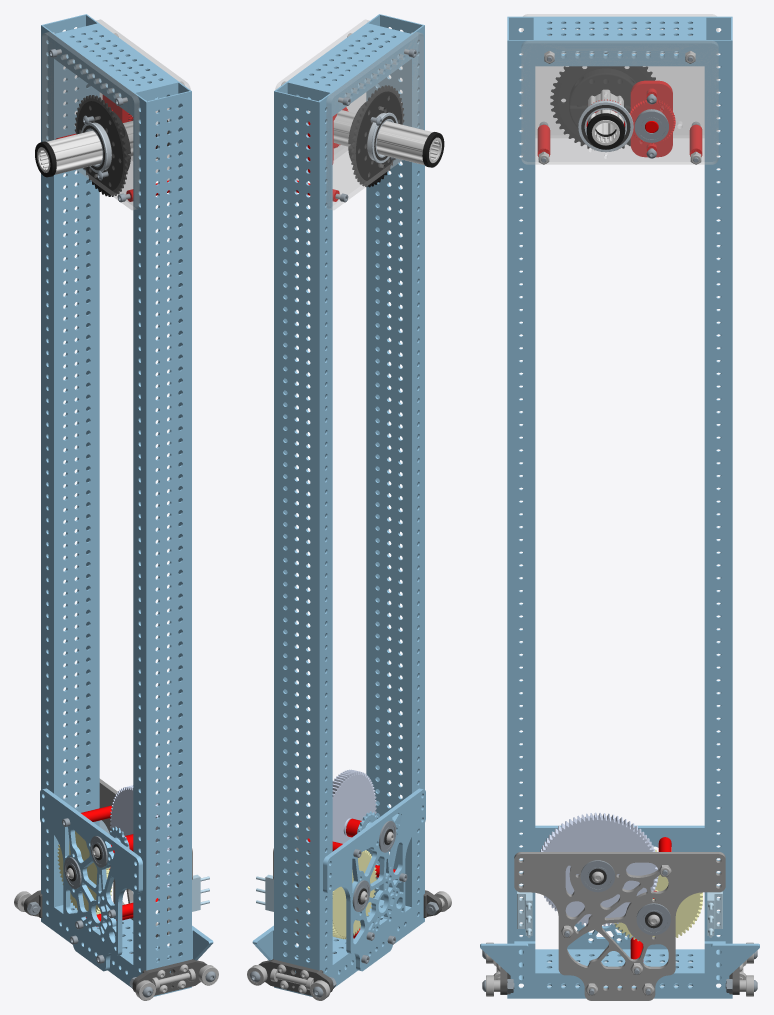
The picture shows the model from 3 angles, left to right: view 1: azimuth 30°, elevation 25°; view 2: azimuth 150°, elevation 25°; view 3: azimuth 270°, elevation 25°; orthographic projection. The views are drawn at different scales.
Visible parts, largest first — view 1: Tube 2"x1"x37.5" (×2), Arm Pivot Plate (×2), Mount Plate, Tube 2"x1"x6" (×2), 48T #25 Plate Sprocket MAXSpline (REV-21-1964), MAXSpline Shaft 4.875", 84t 20dp Aluminum 1/2" Hex Bore Gear (217-3577), Sliding Bearing Block Plate - SLIDE-001, 68t 20dp Aluminum 1/2" Hex Bore Gear (217-5477), Standoff Plate, Flanged 35mm x 47mm Ball Bearing (TTB-0065); view 2: Tube 2"x1"x37.5" (×2), Arm Pivot Plate (×2), Mount Plate, Tube 2"x1"x6" (×2), 48T #25 Plate Sprocket MAXSpline (REV-21-1964), 84t 20dp Aluminum 1/2" Hex Bore Gear (217-3577), MAXSpline Shaft 4.875", 68t 20dp Aluminum 1/2" Hex Bore Gear (217-5477), Sliding Bearing Block Plate - SLIDE-001, Flanged 35mm x 47mm Ball Bearing (TTB-0065); view 3: Tube 2"x1"x37.5" (×2), Arm Pivot Plate (×2), Standoff Plate, Tube 2"x1"x6" (×2), 84t 20dp Aluminum 1/2" Hex Bore Gear (217-3577), Mount Plate, Hard Stop (×2), 48T #25 Plate Sprocket MAXSpline (REV-21-1964), REV-21-2581, Cancoder Mount, .5" Hex ID 1.125" OD Flanged Bearing (217-2734) (×2), 25 Chain Attachment Part ELEV-DRIVE-001 (×2) (+6 smaller).
Boxes of the visible parts, left/top/right/bottom form: Tube 2"x1"x37.5" (×2): left=41, top=14, right=191, bottom=996; Arm Pivot Plate (×2): left=42, top=19, right=190, bottom=209; Mount Plate: left=40, top=788, right=142, bottom=971; Tube 2"x1"x6" (×2): left=54, top=23, right=178, bottom=987; 48T #25 Plate Sprocket MAXSpline (REV-21-1964): left=75, top=95, right=128, bottom=196; MAXSpline Shaft 4.875": left=46, top=121, right=167, bottom=174; 84t 20dp Aluminum 1/2" Hex Bore Gear (217-3577): left=110, top=785, right=169, bottom=889; Sliding Bearing Block Plate - SLIDE-001: left=132, top=959, right=207, bottom=995; 68t 20dp Aluminum 1/2" Hex Bore Gear (217-5477): left=57, top=831, right=112, bottom=914; Standoff Plate: left=99, top=778, right=192, bottom=937; Flanged 35mm x 47mm Ball Bearing (TTB-0065): left=81, top=122, right=111, bottom=172; Tube 2"x1"x37.5" (×2): left=274, top=14, right=424, bottom=996; Arm Pivot Plate (×2): left=275, top=19, right=423, bottom=209; Mount Plate: left=323, top=788, right=425, bottom=971; Tube 2"x1"x6" (×2): left=287, top=23, right=411, bottom=987; 48T #25 Plate Sprocket MAXSpline (REV-21-1964): left=351, top=85, right=404, bottom=187; 84t 20dp Aluminum 1/2" Hex Bore Gear (217-3577): left=332, top=769, right=376, bottom=843; MAXSpline Shaft 4.875": left=333, top=110, right=432, bottom=165; 68t 20dp Aluminum 1/2" Hex Bore Gear (217-5477): left=332, top=850, right=376, bottom=939; Sliding Bearing Block Plate - SLIDE-001: left=258, top=959, right=333, bottom=995; Flanged 35mm x 47mm Ball Bearing (TTB-0065): left=367, top=112, right=397, bottom=163; Tube 2"x1"x37.5" (×2): left=507, top=16, right=732, bottom=998; Arm Pivot Plate (×2): left=521, top=14, right=718, bottom=164; Standoff Plate: left=514, top=852, right=725, bottom=1000; Tube 2"x1"x6" (×2): left=535, top=16, right=704, bottom=998; 84t 20dp Aluminum 1/2" Hex Bore Gear (217-3577): left=540, top=812, right=658, bottom=926; Mount Plate: left=535, top=825, right=704, bottom=962; Hard Stop (×2): left=480, top=943, right=759, bottom=982; 48T #25 Plate Sprocket MAXSpline (REV-21-1964): left=550, top=53, right=655, bottom=148; REV-21-2581: left=569, top=68, right=635, bottom=105; Cancoder Mount: left=630, top=80, right=672, bottom=157; .5" Hex ID 1.125" OD Flanged Bearing (217-2734) (×2): left=580, top=860, right=670, bottom=935; 25 Chain Attachment Part ELEV-DRIVE-001 (×2): left=517, top=891, right=722, bottom=937.
Size of the model in its own units: 0.1444 by 0.9525 by 0.252.
